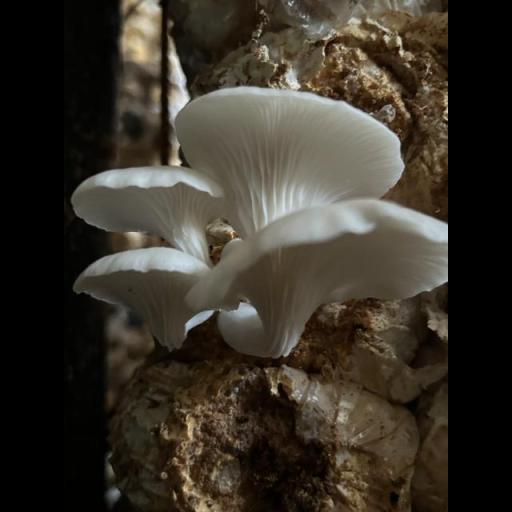White Oyster Mushroom: (72, 87, 444, 354)
